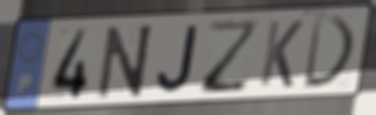4: (48, 26, 90, 102)
D: (300, 14, 359, 92)
J: (155, 23, 201, 95)
K: (256, 18, 305, 90)
N: (95, 21, 156, 102)
Z: (199, 17, 262, 96)
